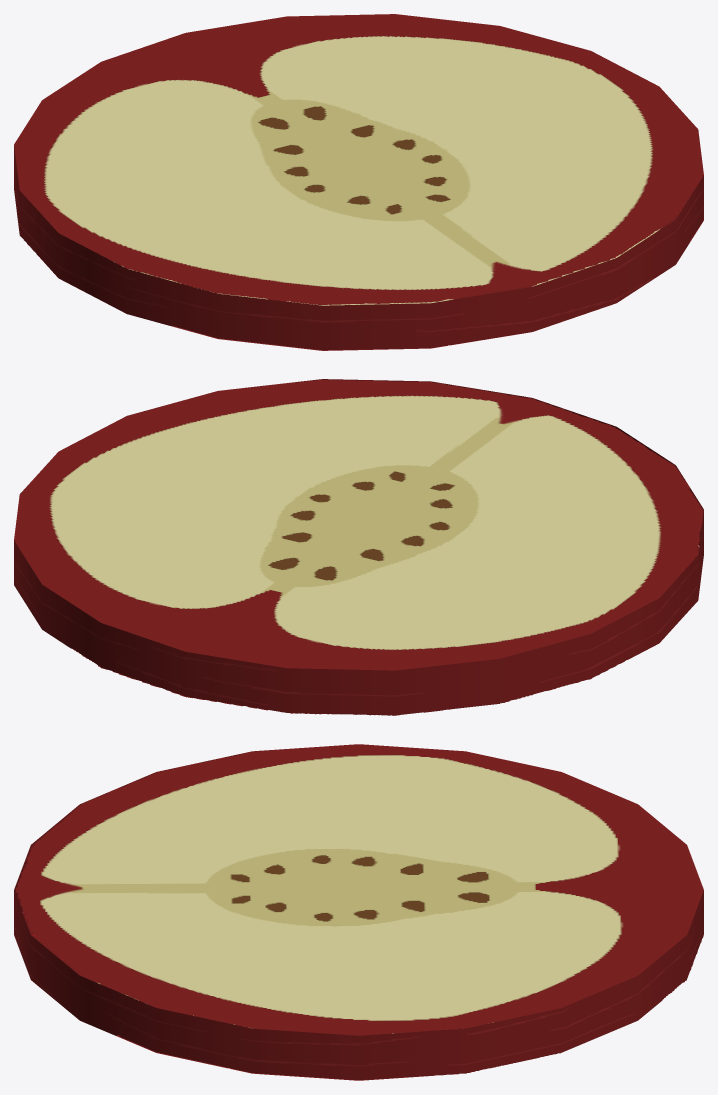
The model's file is apple 2.fbx.
The picture shows the model from 3 angles, top to bottom: view 1: azimuth 30°, elevation 25°; view 2: azimuth 150°, elevation 25°; view 3: azimuth 270°, elevation 25°; orthographic projection.
Visible parts, largest first — view 1: fruit; view 2: fruit; view 3: fruit.
Part boxes in pixels (left/top/right/bottom): fruit: left=14, top=14, right=703, bottom=350; fruit: left=14, top=379, right=703, bottom=715; fruit: left=14, top=744, right=703, bottom=1080.
Size of the model in its own units: 79.96 by 5.76 by 79.96.
1 material, 1 textured.
